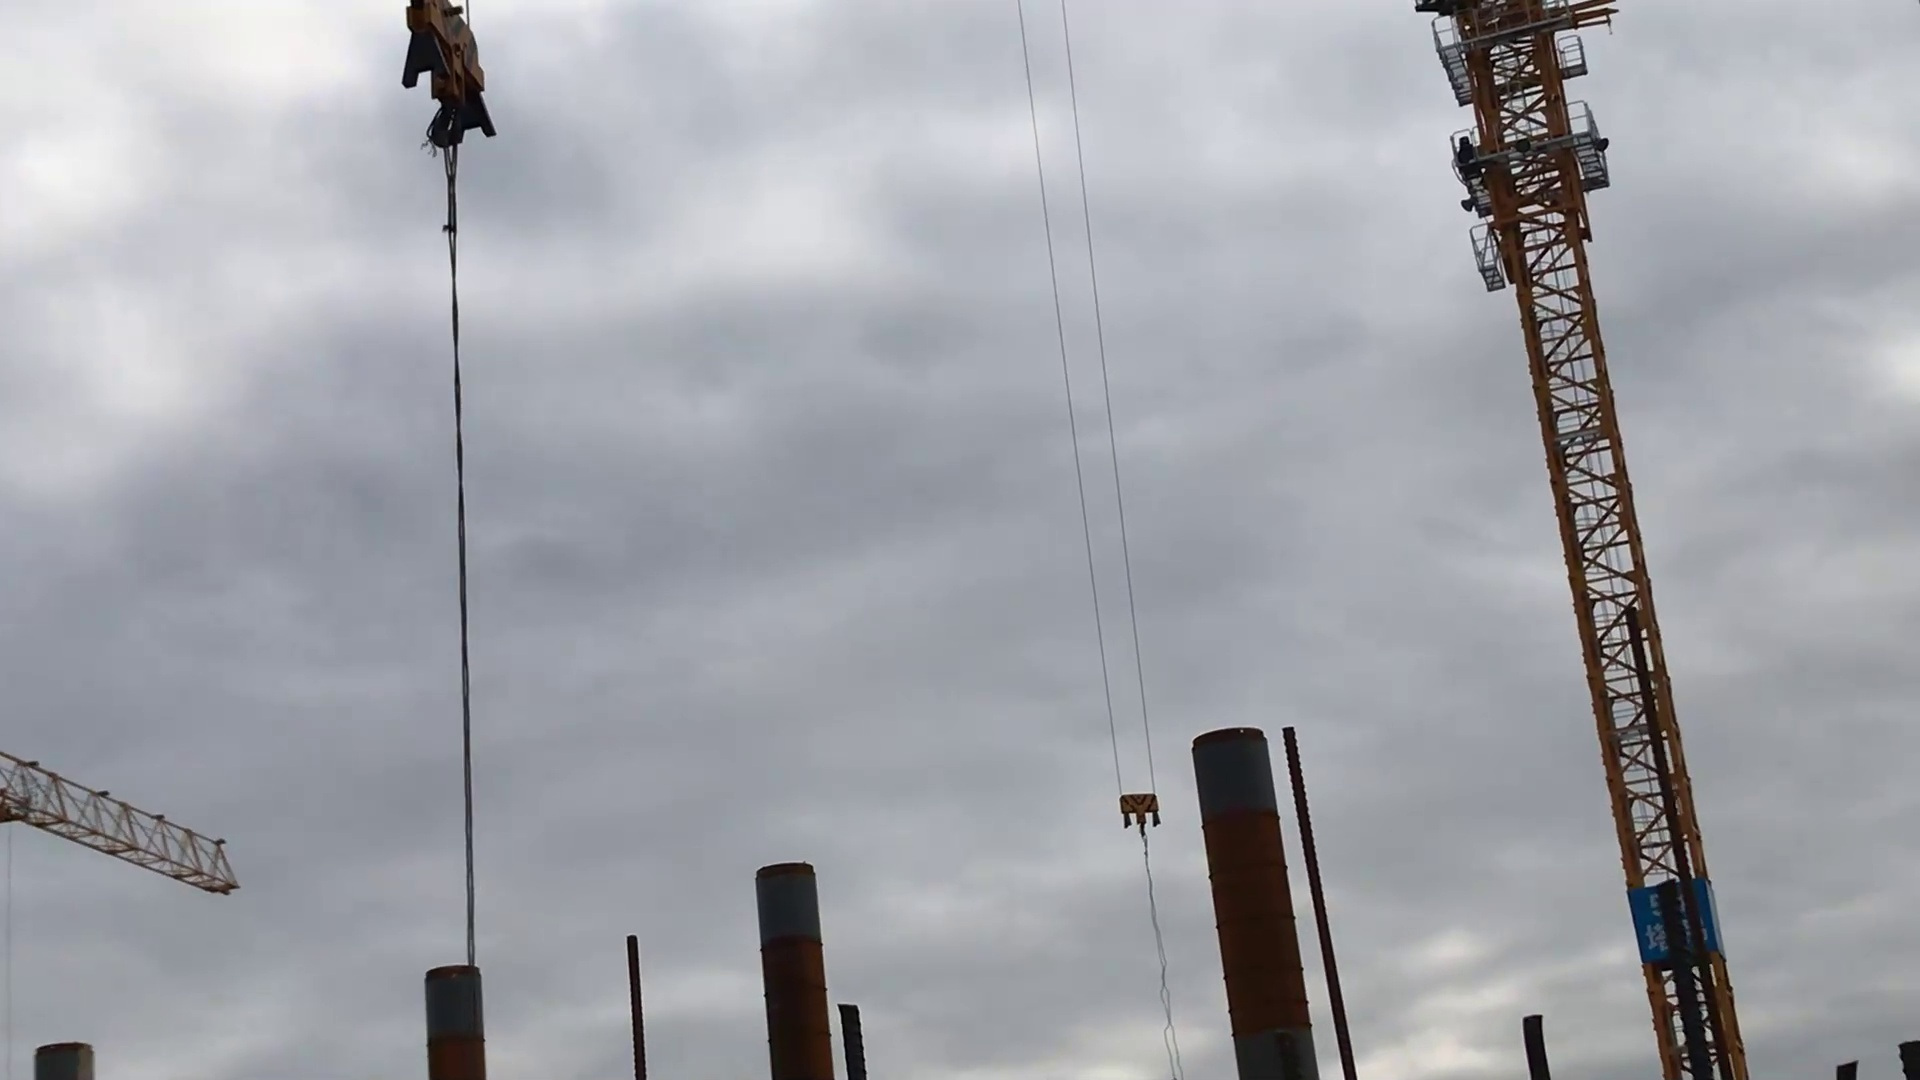hook: (392, 7, 498, 160)
